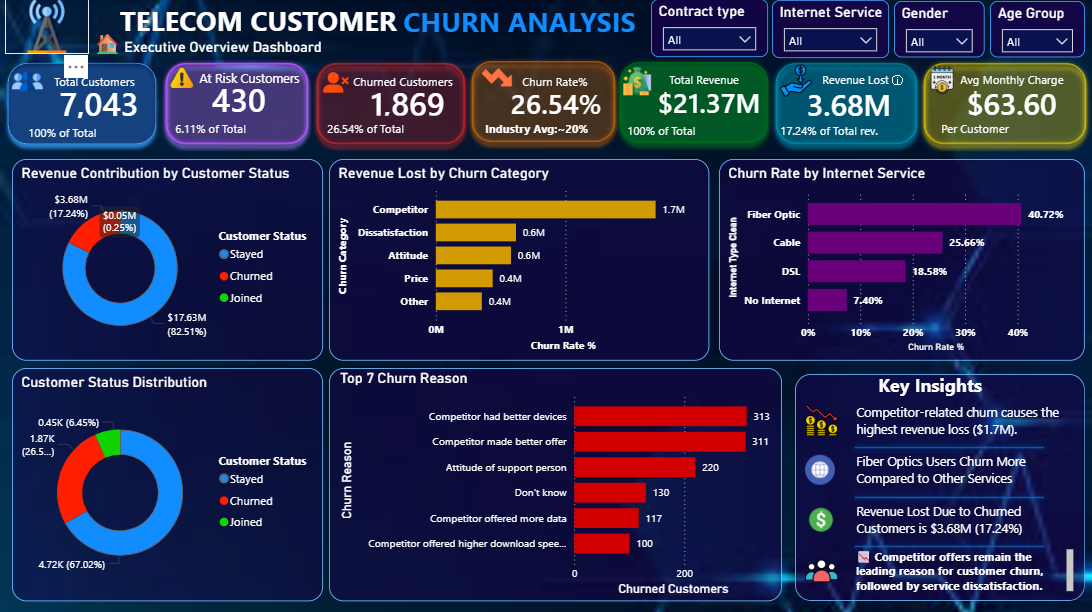

Layout of this report page (visuals, bound fields, positions):
{"tool":"powerbi","page":{"name":"Page 1","canvas":[1280,720],"ordinal":0},"visuals":[{"type":"shape","box":[1071.7,65.5,208.3,113.5],"z":0},{"type":"shape","box":[716.1,64.4,191.9,113.5],"z":1000},{"type":"shape","box":[542.9,63.2,186,113.5],"z":2000},{"type":"shape","box":[361.5,65.5,191.9,113.5],"z":3000},{"type":"shape","box":[0,65.5,191.9,113.5],"z":4000},{"type":"textbox","title":"TELECOM CUSTOMER ","box":[95.9,2.3,413,51.5],"z":5000},{"type":"cardVisual","fields":{"Data":["Count(cleaned_tc_cust_churn.Customer ID)"]},"box":[41,85.4,159.1,71.4],"z":6000},{"type":"cardVisual","title":"Churned Customers","fields":{"Data":["cleaned_tc_cust_churn.Churned Customers"]},"box":[404.8,86.6,148.6,67.9],"z":7000},{"type":"cardVisual","title":"Churn Rate %","fields":{"Data":["cleaned_tc_cust_churn.Churn Rate%"]},"box":[568.6,69,169.7,100.6],"z":8000},{"type":"cardVisual","title":"Total Revenue","fields":{"Data":["cleaned_tc_cust_churn.Total_Revenue"]},"box":[740.6,85.4,201.2,67.9],"z":9000},{"type":"donutChart","title":"Revenue Contribution by Customer Status","fields":{"Category":["cleaned_tc_cust_churn.Customer Status"],"Y":["cleaned_tc_cust_churn.Total_Revenue"]},"box":[14,187.2,363.9,236.3],"z":10000},{"type":"clusteredBarChart","title":"Revenue Lost by Churn Category","fields":{"Y":["cleaned_tc_cust_churn.Revenue Lost"],"Category":["cleaned_tc_cust_churn.Churn Category"]},"box":[384.9,187.2,444.6,236.3],"z":11000},{"type":"clusteredBarChart","title":"Churn Rate  by Internet Service","fields":{"Y":["cleaned_tc_cust_churn.Churn Rate%"],"Category":["cleaned_tc_cust_churn.Internet Type Clean"]},"box":[841.2,187.2,428.2,236.3],"z":12000},{"type":"image","box":[13.8,71.6,36.4,50.3],"z":13000},{"type":"textbox","box":[59.1,82.9,114.3,27.6],"z":14000},{"type":"textbox","box":[28.1,142.7,114.7,28.1],"z":15000},{"type":"shape","box":[184.9,65.5,184.9,113.5],"z":16000},{"type":"cardVisual","fields":{"Data":["cleaned_tc_cust_churn.Customer At Risk"]},"box":[218.8,80.7,150.9,71.4],"z":17000},{"type":"textbox","box":[200.1,138.1,114.7,28.1],"z":18000},{"type":"textbox","title":"At Risk Customers","box":[228.2,81.9,132.2,28.1],"z":19000},{"type":"image","box":[197.7,67.9,30.4,50.3],"z":20000},{"type":"textbox","box":[408.3,83.1,142.7,26.9],"z":21000},{"type":"textbox","box":[377.9,138.1,114.7,28.1],"z":22000},{"type":"image","box":[5.9,0,98.3,64.4],"z":23000},{"type":"textbox","title":"CHURN ANALYSIS ","box":[425.9,3.5,363.9,50.3],"z":24000},{"type":"image","box":[377.9,72.5,30.4,50.3],"z":25000},{"type":"textbox","box":[562.8,138.1,145.1,28.1],"z":26000},{"type":"image","box":[562.8,66.7,37.4,50.3],"z":27000},{"type":"textbox","box":[606.1,83.1,101.8,26.9],"z":28000},{"type":"textbox","box":[778.1,80.7,101.8,26.9],"z":29000},{"type":"textbox","box":[728.9,140.4,113.5,28.1],"z":30000},{"type":"image","box":[728.9,73.7,32.8,45.6],"z":31000},{"type":"shape","box":[898.6,65.5,183.7,113.5],"z":32000},{"type":"cardVisual","title":"Total Revenue","fields":{"Data":["cleaned_tc_cust_churn.Revenue Lost"]},"box":[915,87.8,167.3,67.9],"z":33000},{"type":"textbox","box":[957.1,80.7,114.7,26.9],"z":34000},{"type":"textbox","box":[907.9,140.4,132.2,28.1],"z":35000},{"type":"image","box":[1085.8,72.5,32.8,45.6],"z":36000},{"type":"textbox","box":[1096.3,138.1,132.2,28.1],"z":37000},{"type":"textbox","box":[1118.5,80.7,142.7,26.9],"z":38000},{"type":"image","box":[911.4,72.5,38.6,45.6],"z":39000},{"type":"cardVisual","title":"Total Revenue","fields":{"Data":["cleaned_tc_cust_churn.Average Monthly Charge"]},"box":[1102.2,86.6,167.3,67.9],"z":40000},{"type":"slicer","title":"Contract type","fields":{"Values":["cleaned_tc_cust_churn.Contract"]},"box":[761.7,0,136.9,67.9],"z":41000},{"type":"slicer","title":"Gender","fields":{"Values":["cleaned_tc_cust_churn.gender short"]},"box":[1046,2.3,106.5,65.5],"z":42000},{"type":"slicer","title":"Internet Service","fields":{"Values":["cleaned_tc_cust_churn.Internet Service"]},"box":[903.3,1.2,136.9,67.9],"z":43000},{"type":"donutChart","title":"Customer Status Distribution","fields":{"Category":["cleaned_tc_cust_churn.Customer Status"],"Y":["CountNonNull(cleaned_tc_cust_churn.Customer ID)"]},"box":[14,431.7,363.9,272.6],"z":44000},{"type":"clusteredBarChart","title":"  Top 7 Churn Reason","fields":{"Category":["cleaned_tc_cust_churn.Churn Reason"],"Y":["cleaned_tc_cust_churn.Churned Customers"]},"box":[384.9,431.7,530,272.6],"z":45000},{"type":"shape","box":[930.2,438.8,339.3,265.6],"z":46000},{"type":"textbox","box":[996.9,468,256.2,50.3],"z":47000},{"type":"image","box":[941.9,461,38.6,64.4],"z":48000},{"type":"textbox","box":[1022.6,431.7,162.6,49.1],"z":49000},{"type":"textbox","box":[996.9,525.3,256.2,50.3],"z":50000},{"type":"textbox","box":[996.9,583.8,256.2,50.3],"z":51000},{"type":"textbox","box":[996.9,638.8,264.4,59.7],"z":52000},{"type":"image","box":[941.9,518.3,35.1,64.4],"z":53000},{"type":"image","box":[943,576.8,35.1,64.4],"z":54000},{"type":"shape","box":[992.2,506.6,237.5,36.3],"z":55000},{"type":"shape","box":[992.2,565.1,237.5,36.3],"z":56000},{"type":"shape","box":[992.2,622.4,237.5,36.3],"z":57000},{"type":"image","box":[941.9,634.1,38.6,70.2],"z":58000},{"type":"textbox","title":"Executive Overview Dashboard","box":[140.4,45.6,273.8,28.1],"z":59000},{"type":"slicer","title":"Age Group","fields":{"Values":["cleaned_tc_cust_churn.Age Group"]},"box":[1158.3,2.3,111.2,65.5],"z":60000},{"type":"textbox","box":[104.1,12.9,45.6,67.9],"z":61000}]}

Visuals, with their boxes in screenshot pixels (x1, y1, x2, y2), scaled from the page's 1280x720 canvas onto the 1092x612 screenshot:
shape: box=[914, 56, 1091, 152]
shape: box=[611, 55, 775, 151]
shape: box=[463, 54, 622, 150]
shape: box=[308, 56, 472, 152]
shape: box=[0, 56, 164, 152]
"TELECOM CUSTOMER " textbox: box=[82, 2, 434, 46]
cardVisual - Count(cleaned_tc_cust_churn.Customer ID): box=[35, 73, 171, 133]
"Churned Customers" cardVisual: box=[345, 74, 472, 131]
"Churn Rate %" cardVisual: box=[485, 59, 630, 144]
"Total Revenue" cardVisual: box=[632, 73, 803, 130]
"Revenue Contribution by Customer Status" donutChart: box=[12, 159, 322, 360]
"Revenue Lost by Churn Category" clusteredBarChart: box=[328, 159, 708, 360]
"Churn Rate  by Internet Service" clusteredBarChart: box=[718, 159, 1083, 360]
image: box=[12, 61, 43, 104]
textbox: box=[50, 70, 148, 94]
textbox: box=[24, 121, 122, 145]
shape: box=[158, 56, 315, 152]
cardVisual - cleaned_tc_cust_churn.Customer At Risk: box=[187, 69, 315, 129]
textbox: box=[171, 117, 269, 141]
"At Risk Customers" textbox: box=[195, 70, 307, 94]
image: box=[169, 58, 195, 100]
textbox: box=[348, 71, 470, 94]
textbox: box=[322, 117, 420, 141]
image: box=[5, 0, 89, 55]
"CHURN ANALYSIS " textbox: box=[363, 3, 674, 46]
image: box=[322, 62, 348, 104]
textbox: box=[480, 117, 604, 141]
image: box=[480, 57, 512, 99]
textbox: box=[517, 71, 604, 94]
textbox: box=[664, 69, 751, 91]
textbox: box=[622, 119, 719, 143]
image: box=[622, 63, 650, 101]
shape: box=[767, 56, 923, 152]
"Total Revenue" cardVisual: box=[781, 75, 923, 132]
textbox: box=[817, 69, 914, 91]
textbox: box=[775, 119, 887, 143]
image: box=[926, 62, 954, 100]
textbox: box=[935, 117, 1048, 141]
textbox: box=[954, 69, 1076, 91]
image: box=[778, 62, 810, 100]
"Total Revenue" cardVisual: box=[940, 74, 1083, 131]
"Contract type" slicer: box=[650, 0, 767, 58]
"Gender" slicer: box=[892, 2, 983, 58]
"Internet Service" slicer: box=[771, 1, 887, 59]
"Customer Status Distribution" donutChart: box=[12, 367, 322, 599]
"  Top 7 Churn Reason" clusteredBarChart: box=[328, 367, 781, 599]
shape: box=[794, 373, 1083, 599]
textbox: box=[850, 398, 1069, 441]
image: box=[804, 392, 836, 447]
textbox: box=[872, 367, 1011, 409]
textbox: box=[850, 447, 1069, 489]
textbox: box=[850, 496, 1069, 539]
textbox: box=[850, 543, 1076, 594]
image: box=[804, 441, 834, 495]
image: box=[804, 490, 834, 545]
shape: box=[846, 431, 1049, 461]
shape: box=[846, 480, 1049, 511]
shape: box=[846, 529, 1049, 560]
image: box=[804, 539, 836, 599]
"Executive Overview Dashboard" textbox: box=[120, 39, 353, 63]
"Age Group" slicer: box=[988, 2, 1083, 58]
textbox: box=[89, 11, 128, 69]
